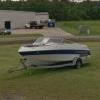Boat: (11, 29, 92, 71)
